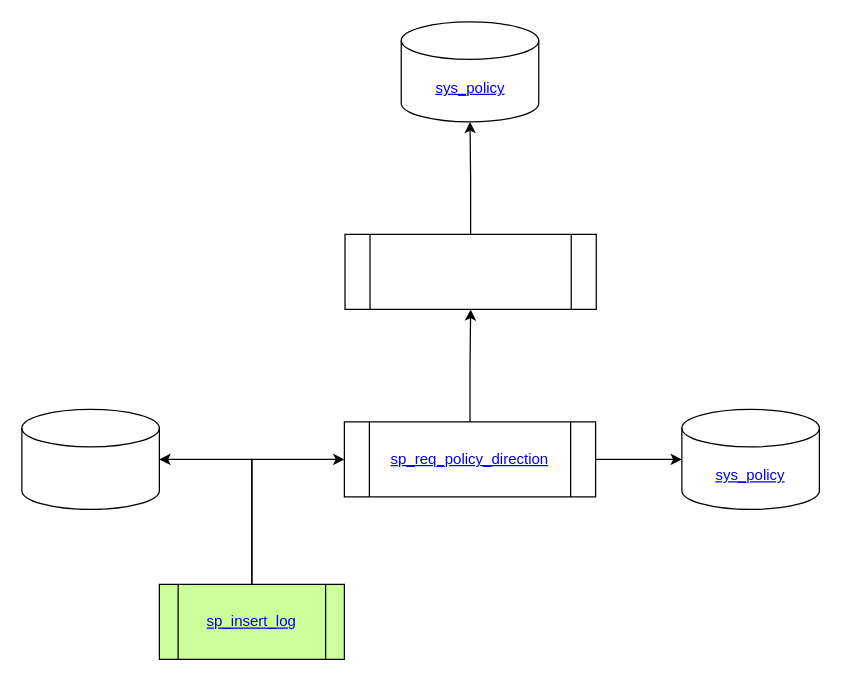
Some shapes in this 841 by 681 pixel diagram are drawn without their labels. Each missing label, with the centre of its shape:
sp_req_policy_exists: (x=470, y=271)
sys_log: (x=90, y=458)
